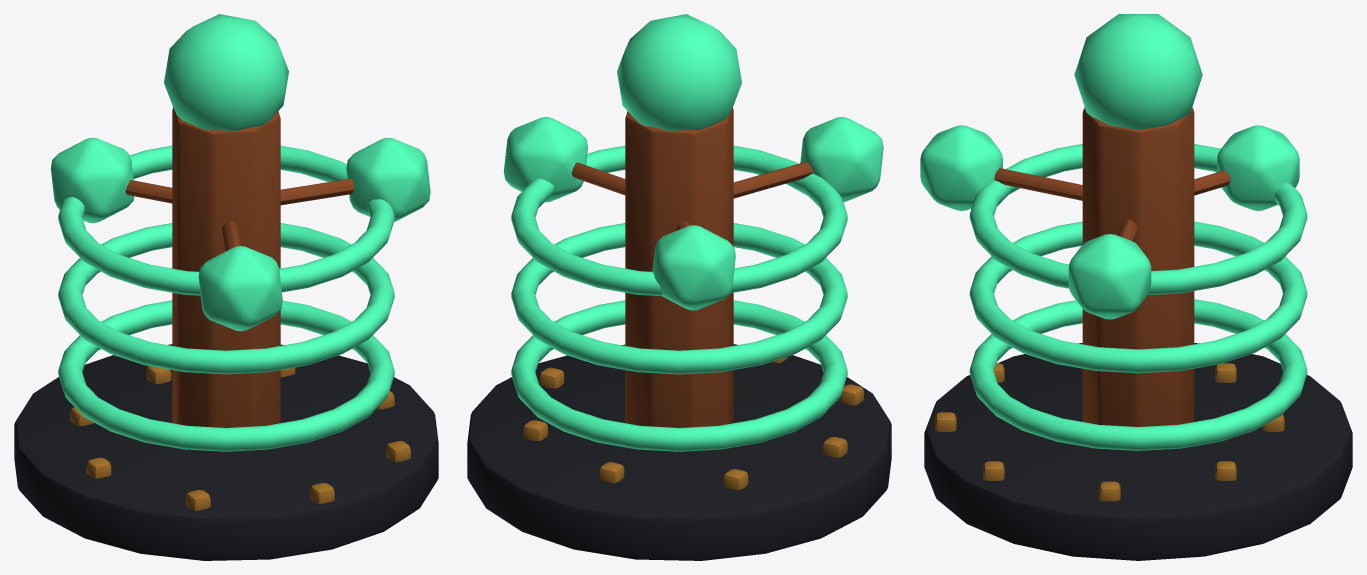
Rendered from BranchB2.obj.
3 renders of one model, left to right at view 1: azimuth 30°, elevation 25°; view 2: azimuth 150°, elevation 25°; view 3: azimuth 270°, elevation 25°, orthographic.
Visible parts, largest first — view 1: BranchB2; view 2: BranchB2; view 3: BranchB2.
Part boxes in pixels (x1,y1,x2,y2): BranchB2: (14,14,438,560); BranchB2: (467,14,891,560); BranchB2: (920,14,1352,560).
Bounding box in the file's own units: 0.6 × 0.705 × 0.6057.
